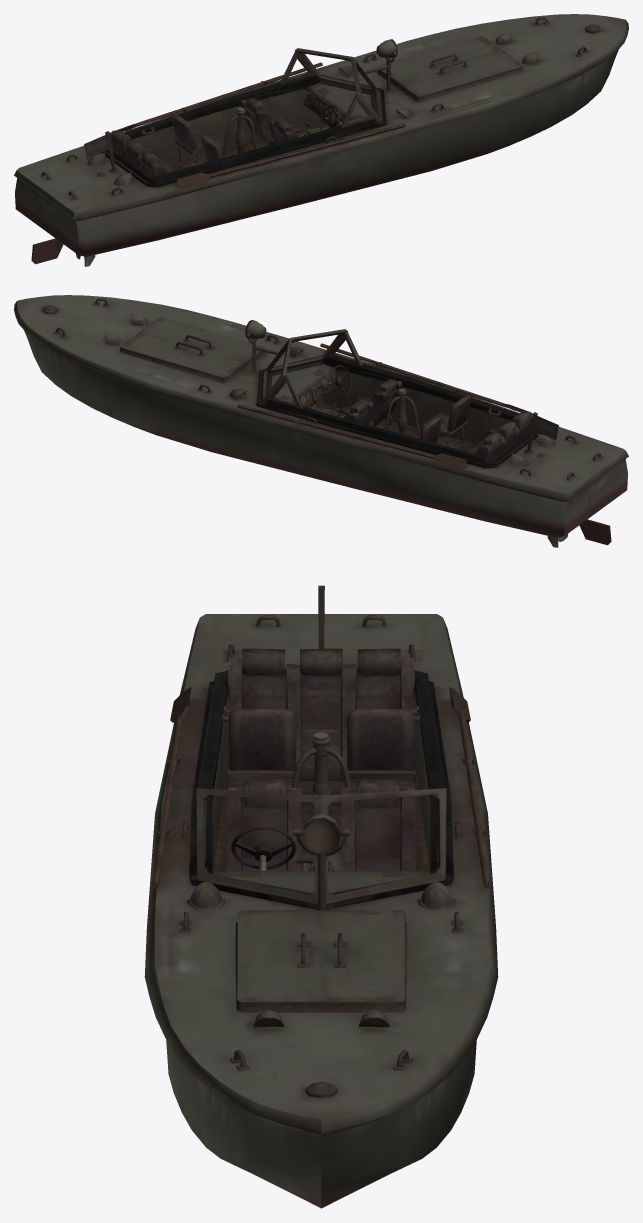
File: pubg_boat.glb
3 views of the same model, one above another, from view 1: azimuth 30°, elevation 25°; view 2: azimuth 150°, elevation 25°; view 3: azimuth 270°, elevation 25° (orthographic). The views are drawn at different scales.
Visible parts, largest first — view 1: Boat; view 2: Boat; view 3: Boat.
Part boxes in pixels (x1,y1,x2,y2): Boat: (14,14,628,266); Boat: (14,295,628,547); Boat: (144,585,498,1208).
Size of the model in its own units: 9.71 by 2.36 by 2.49.
1 material, 1 textured.
